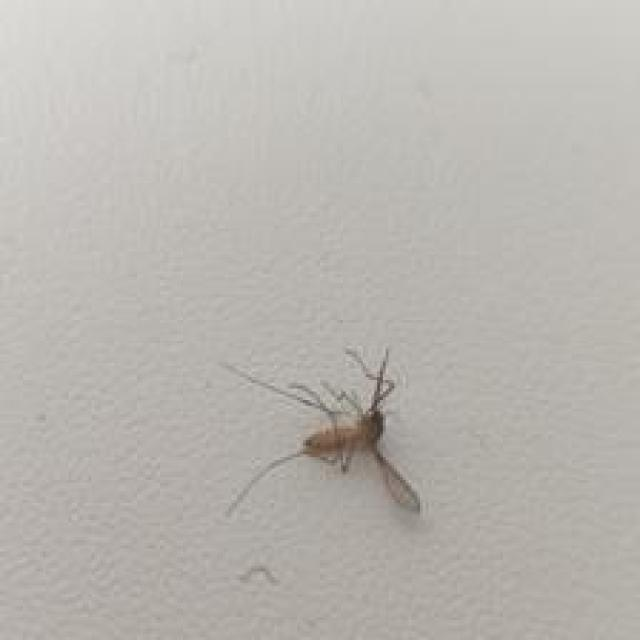Culex: (220, 343, 423, 520)
